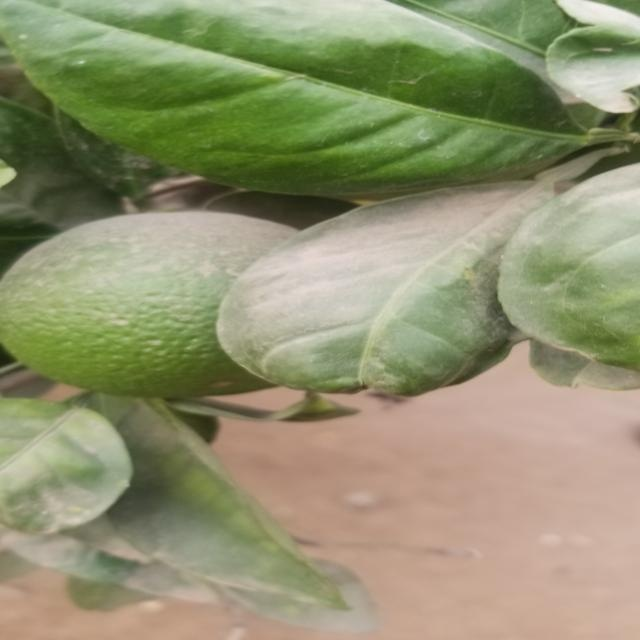agrume: (7, 202, 337, 414)
